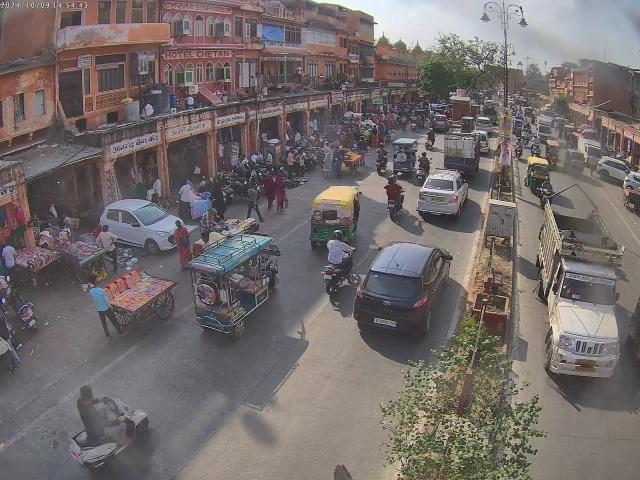auto: (353, 241, 453, 342), (186, 232, 282, 336), (308, 184, 360, 248), (522, 154, 552, 192), (391, 138, 419, 176)
car: (98, 196, 184, 253), (417, 168, 468, 220), (592, 156, 636, 186)
helmet: (388, 174, 398, 184)
license_plate: (373, 317, 398, 327), (576, 358, 598, 367), (322, 273, 332, 281), (430, 197, 444, 202), (389, 204, 395, 207)
lorry: (538, 202, 622, 380), (443, 132, 482, 178)
motorbike-rider: (319, 235, 356, 299), (384, 176, 407, 220), (374, 144, 388, 174)
no_helmet: (80, 384, 96, 403)
person: (174, 222, 196, 269), (0, 240, 17, 274), (177, 179, 197, 207), (44, 204, 60, 228)
scooty: (0, 278, 38, 328), (200, 173, 233, 203)
scooty-rider: (68, 384, 150, 474), (538, 177, 555, 204), (417, 151, 432, 180)
vendor: (88, 267, 178, 341), (336, 145, 362, 174)
